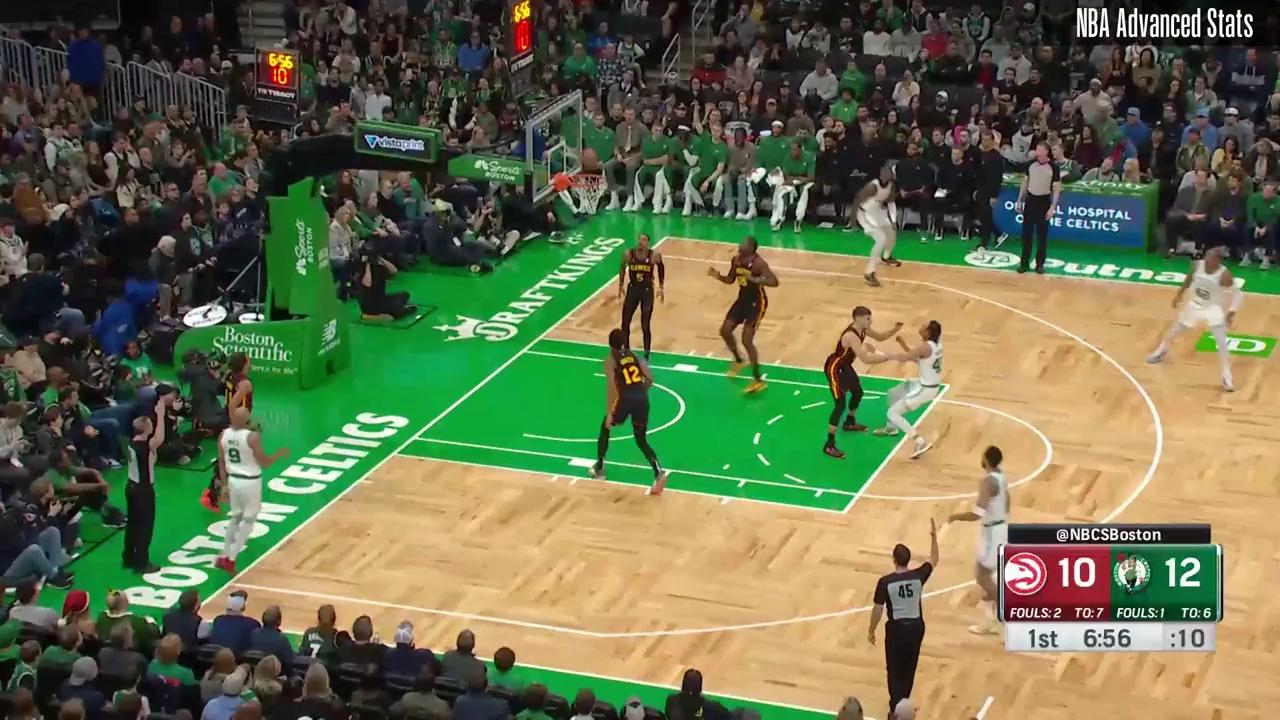3_sx: (223, 578, 234, 589)
b_dx: (661, 232, 672, 242)
free_adx: (941, 380, 952, 391)
free_asx: (838, 506, 849, 516)
free_bdx: (536, 331, 546, 342)
free_bsx: (390, 447, 400, 459)
mid_sx: (986, 691, 997, 702)
referee: (869, 517, 938, 715), (121, 397, 165, 574), (1015, 142, 1061, 273)
team: (1146, 246, 1241, 394), (215, 407, 291, 575), (948, 446, 1010, 633), (866, 320, 943, 459), (853, 167, 903, 288)
team1: (591, 329, 667, 497), (822, 305, 902, 459), (707, 234, 779, 394), (201, 351, 253, 513), (617, 232, 664, 362)
timer: (1081, 623, 1135, 652)
